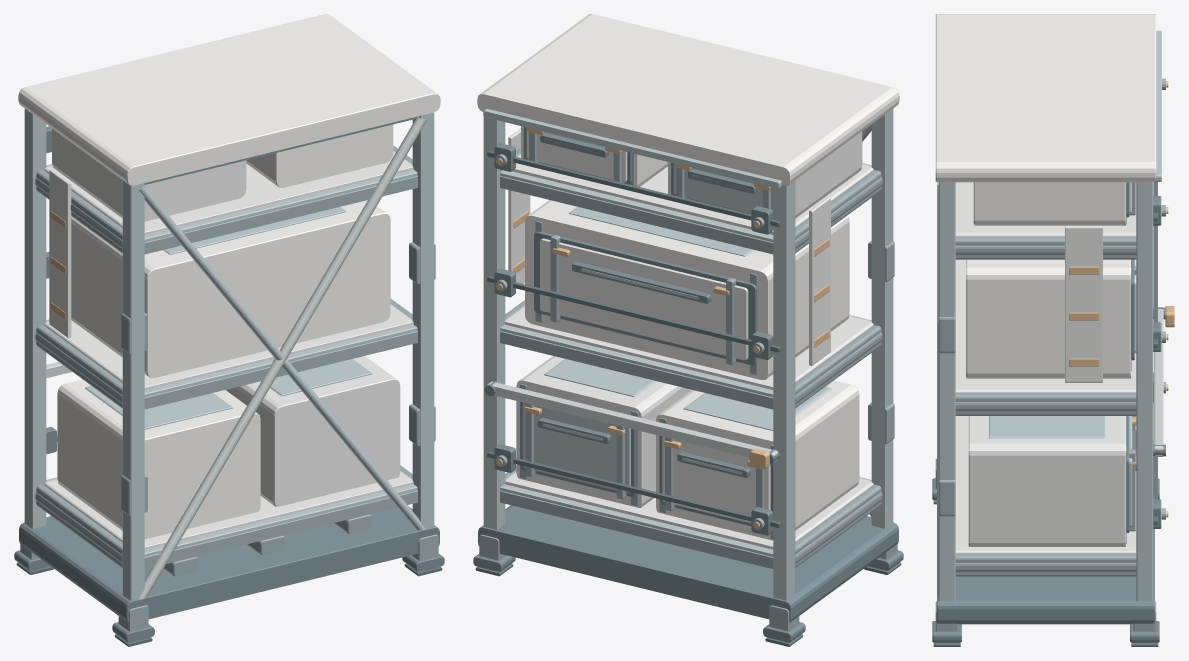
The model's file is cargo_rack.glb.
The picture shows the model from 3 angles, left to right: view 1: azimuth 30°, elevation 25°; view 2: azimuth 150°, elevation 25°; view 3: azimuth 270°, elevation 25°; orthographic projection.
Visible parts, largest first — view 1: Fixed__ivory, Fixed__aluminium, Supply_Container_Middle__ivory, Fixed__steel, Fixed__graphite, Cargo_Case_Lower_Left__ivory, Fixed__shell, Cargo_Case_Lower_Right__shell, Supply_Case_Upper_Left__shell, Fixed__silver, Supply_Case_Upper_Right__ivory, Cargo_Case_Lower_Left__aluminium (+2 smaller); view 2: Fixed__ivory, Fixed__aluminium, Fixed__graphite, Fixed__steel, Fixed__shell, Supply_Container_Middle__ivory, Supply_Container_Middle__shell, Cargo_Case_Lower_Left__ivory, Cargo_Case_Lower_Right__aluminium, Cargo_Case_Lower_Right__shell, Fixed__rubber, Cargo_Case_Lower_Left__shell (+17 smaller); view 3: Fixed__ivory, Cargo_Case_Lower_Right__shell, Fixed__shell, Supply_Container_Middle__ivory, Fixed__aluminium, Fixed__steel, Fixed__graphite, Supply_Case_Upper_Right__ivory, Cargo_Case_Lower_Right__aluminium, Fixed__rubber, Cargo_Retainer_Bar__silver, Fixed__orange (+4 smaller).
Part boxes in pixels (x1,y1,x2,y2): Fixed__ivory: [18, 14, 440, 185]; Fixed__aluminium: [24, 108, 434, 600]; Supply_Container_Middle__ivory: [71, 200, 390, 378]; Fixed__steel: [20, 145, 438, 631]; Fixed__graphite: [14, 116, 444, 642]; Cargo_Case_Lower_Left__ivory: [57, 379, 260, 539]; Fixed__shell: [44, 151, 413, 549]; Cargo_Case_Lower_Right__shell: [226, 356, 400, 506]; Supply_Case_Upper_Left__shell: [52, 128, 246, 221]; Fixed__silver: [139, 116, 426, 598]; Supply_Case_Upper_Right__ivory: [246, 124, 393, 187]; Cargo_Case_Lower_Left__aluminium: [85, 385, 232, 429]; Fixed__ivory: [477, 14, 899, 185]; Fixed__aluminium: [483, 108, 893, 600]; Fixed__graphite: [473, 143, 903, 642]; Fixed__steel: [479, 148, 897, 631]; Fixed__shell: [505, 128, 873, 549]; Supply_Container_Middle__ivory: [525, 200, 849, 379]; Supply_Container_Middle__shell: [540, 238, 748, 360]; Cargo_Case_Lower_Left__ivory: [656, 380, 859, 540]; Cargo_Case_Lower_Right__aluminium: [522, 359, 656, 492]; Cargo_Case_Lower_Right__shell: [516, 356, 691, 507]; Fixed__rubber: [475, 150, 901, 646]; Cargo_Case_Lower_Left__shell: [662, 436, 770, 523]; Fixed__ivory: [935, 14, 1156, 182]; Cargo_Case_Lower_Right__shell: [968, 416, 1125, 546]; Fixed__shell: [955, 182, 1136, 553]; Supply_Container_Middle__ivory: [966, 259, 1130, 378]; Fixed__aluminium: [937, 30, 1161, 601]; Fixed__steel: [935, 78, 1165, 631]; Fixed__graphite: [932, 196, 1161, 642]; Supply_Case_Upper_Right__ivory: [973, 182, 1125, 225]; Cargo_Case_Lower_Right__aluminium: [989, 416, 1132, 527]; Fixed__rubber: [933, 182, 1158, 646]; Cargo_Retainer_Bar__silver: [1154, 307, 1163, 456]; Fixed__orange: [1069, 81, 1168, 517].
Size of the model in its own units: 1.46 by 2.1 by 0.956.
